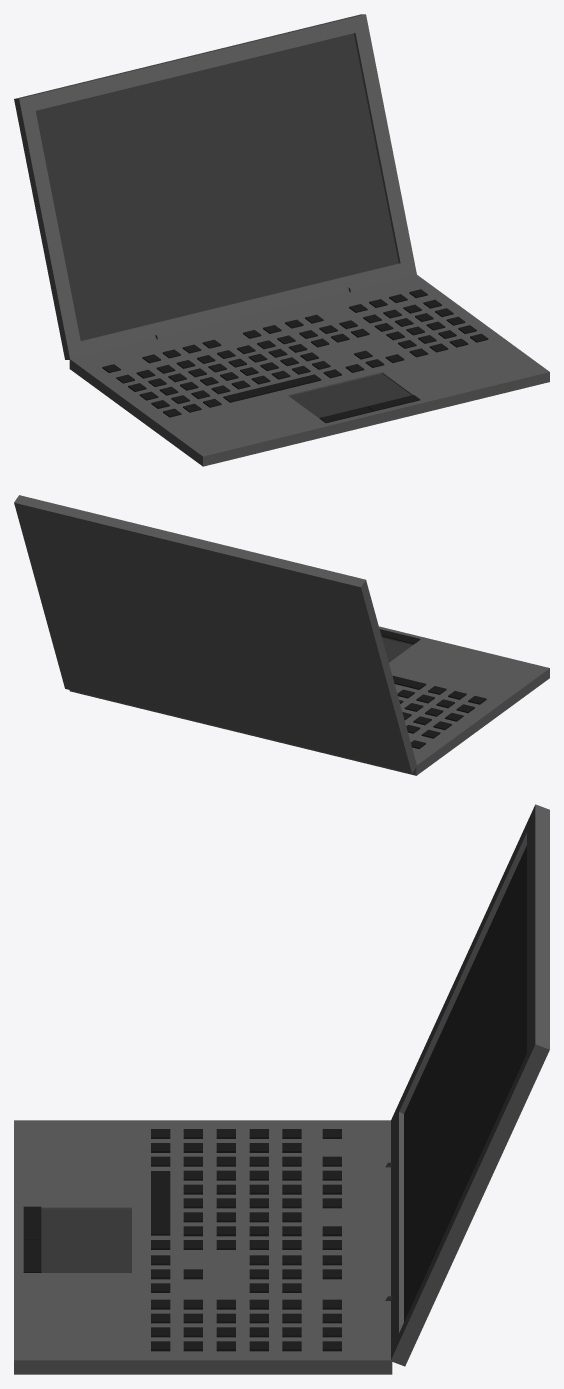
File: SM_Props_Laptop_02.fbx
3 renders of one model, top to bottom at view 1: azimuth 30°, elevation 25°; view 2: azimuth 150°, elevation 25°; view 3: azimuth 270°, elevation 25°, orthographic. The views are drawn at different scales.
Parts seen in each view (by area): view 1: SM_Props_Laptop_02; view 2: SM_Props_Laptop_02; view 3: SM_Props_Laptop_02.
Part boxes in pixels (x1,y1,x2,y2): SM_Props_Laptop_02: (14,14,549,466); SM_Props_Laptop_02: (14,495,549,775); SM_Props_Laptop_02: (14,804,549,1374).
Size of the model in its own units: 0.36 by 0.2312 by 0.3399.
